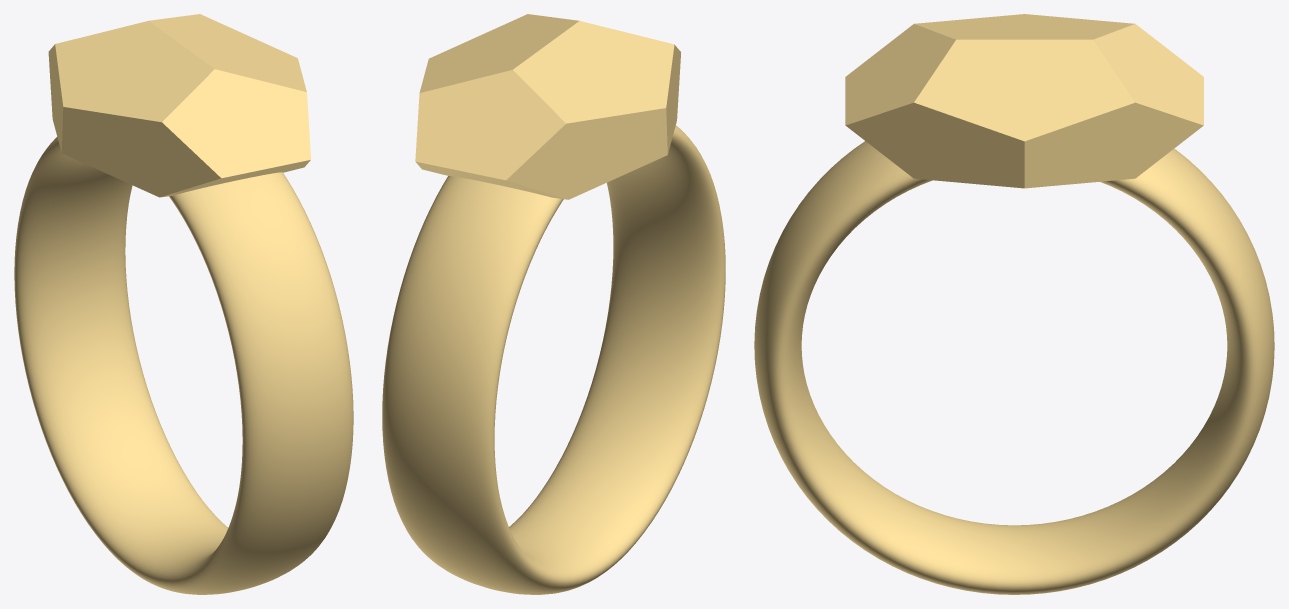
Rendered from ring.glb.
3 renders of one model, left to right at view 1: azimuth 30°, elevation 25°; view 2: azimuth 150°, elevation 25°; view 3: azimuth 270°, elevation 25°, orthographic. The views are drawn at different scales.
Parts seen in each view (by area): view 1: Torus, Dodecahedron; view 2: Torus, Dodecahedron; view 3: Torus, Dodecahedron.
Part boxes in pixels (x1,y1,x2,y2): Torus: (14, 137, 353, 594); Dodecahedron: (48, 14, 310, 197); Torus: (382, 125, 725, 594); Dodecahedron: (415, 14, 680, 199); Torus: (754, 141, 1274, 594); Dodecahedron: (845, 14, 1203, 188).
Size of the model in its own units: 0.2085 by 0.4425 by 0.3841.
